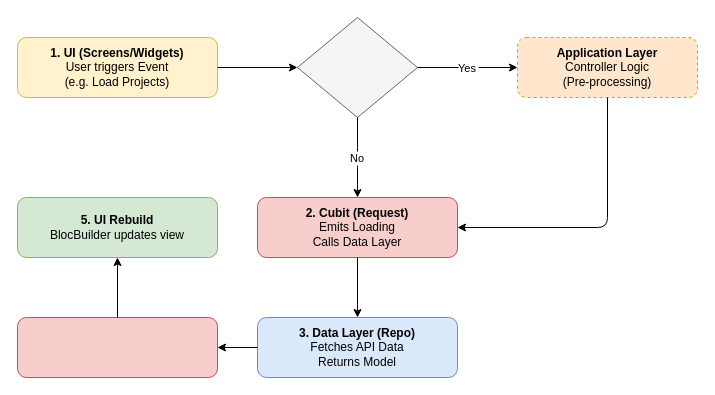
Some shapes in this 715 by 395 pixel diagram are drawn without their labels. Each missing label, with the centre of its shape:
"4. Cubit (Response) Receives Model Emits Success State" goes at point 117,347.
"Processing Required?" goes at point 357,67.
